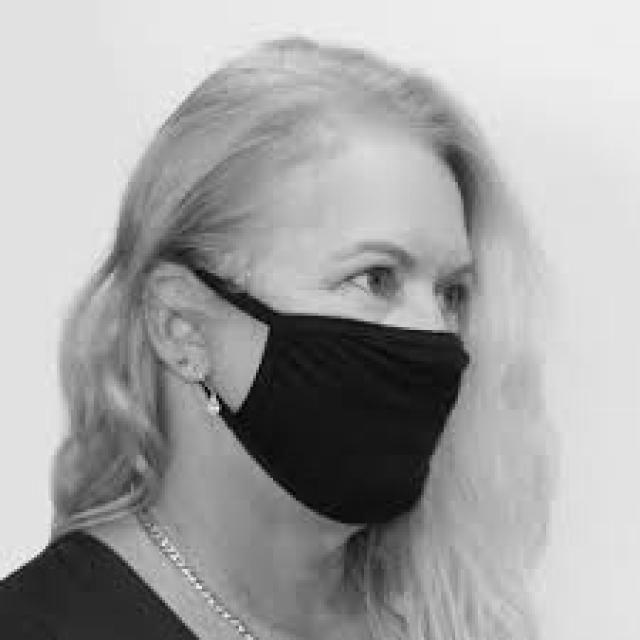fake: (170, 309, 479, 532)
real: (231, 125, 483, 544)
